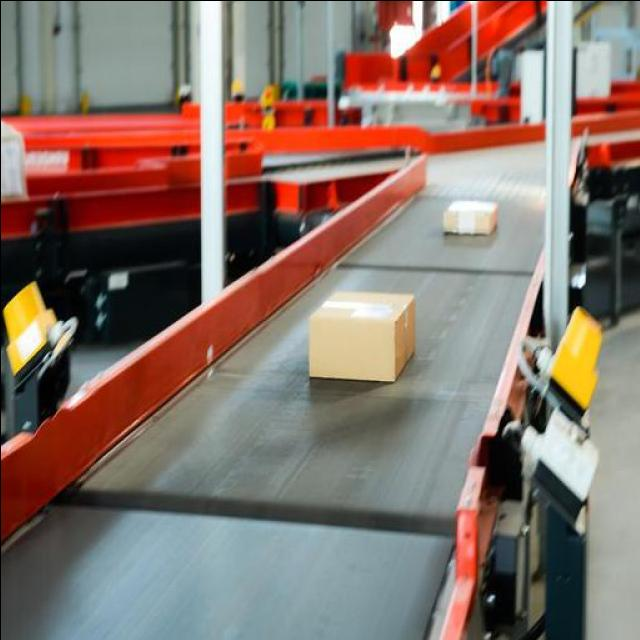conveyor: (0, 151, 570, 640)
